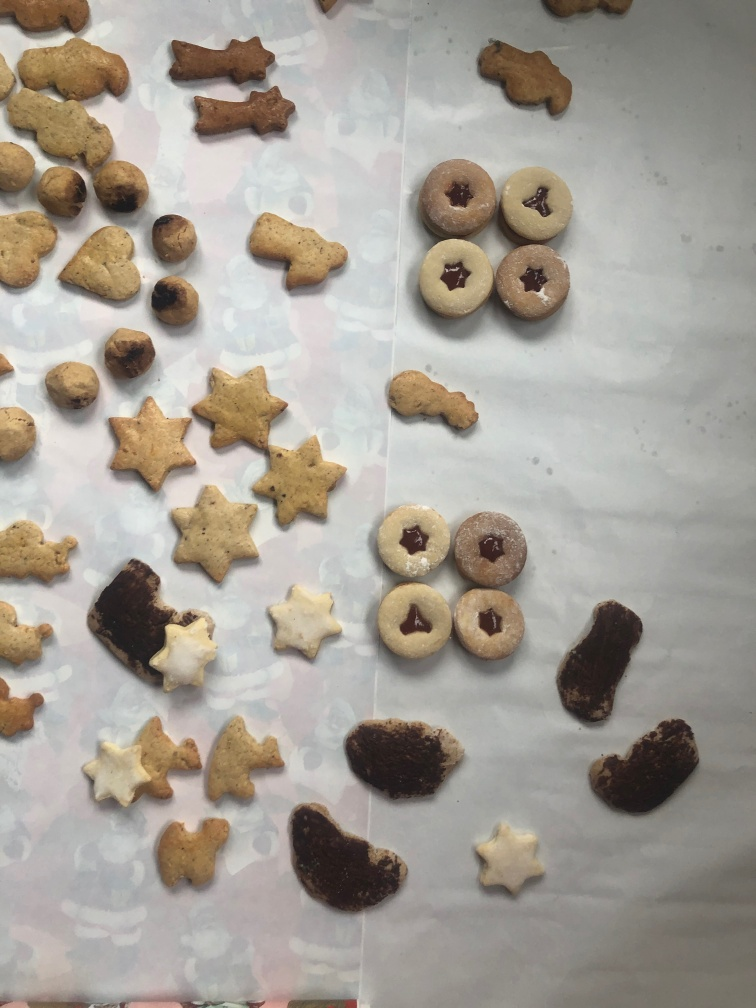angel: (241, 204, 354, 300)
christmas shortbread with jam: (419, 157, 501, 239), (372, 584, 452, 665), (371, 501, 453, 579), (453, 504, 531, 586), (493, 245, 576, 321), (499, 165, 576, 244), (419, 241, 491, 322), (456, 582, 525, 665)
heart: (63, 211, 141, 311), (1, 205, 59, 295)
lamb: (204, 715, 288, 816), (155, 811, 241, 894), (137, 712, 202, 811)
santa claus: (476, 29, 577, 124), (5, 83, 114, 166), (16, 34, 137, 104), (1, 515, 81, 588), (1, 601, 59, 678), (1, 674, 44, 747), (1, 1, 92, 33)
shooting star: (163, 34, 281, 93), (181, 87, 300, 144)
snowball: (87, 157, 151, 223), (102, 327, 163, 388), (147, 276, 206, 333), (45, 360, 103, 417), (39, 164, 93, 221), (1, 139, 43, 204)
snowman: (381, 367, 483, 450)
star: (163, 477, 267, 584), (101, 393, 204, 490), (253, 434, 350, 534), (192, 360, 286, 452), (259, 578, 347, 668), (469, 811, 553, 899), (147, 617, 224, 695), (81, 728, 152, 812)
weird #1: (283, 796, 408, 917), (87, 560, 186, 691), (588, 716, 702, 824), (554, 595, 643, 733), (345, 715, 471, 809)
